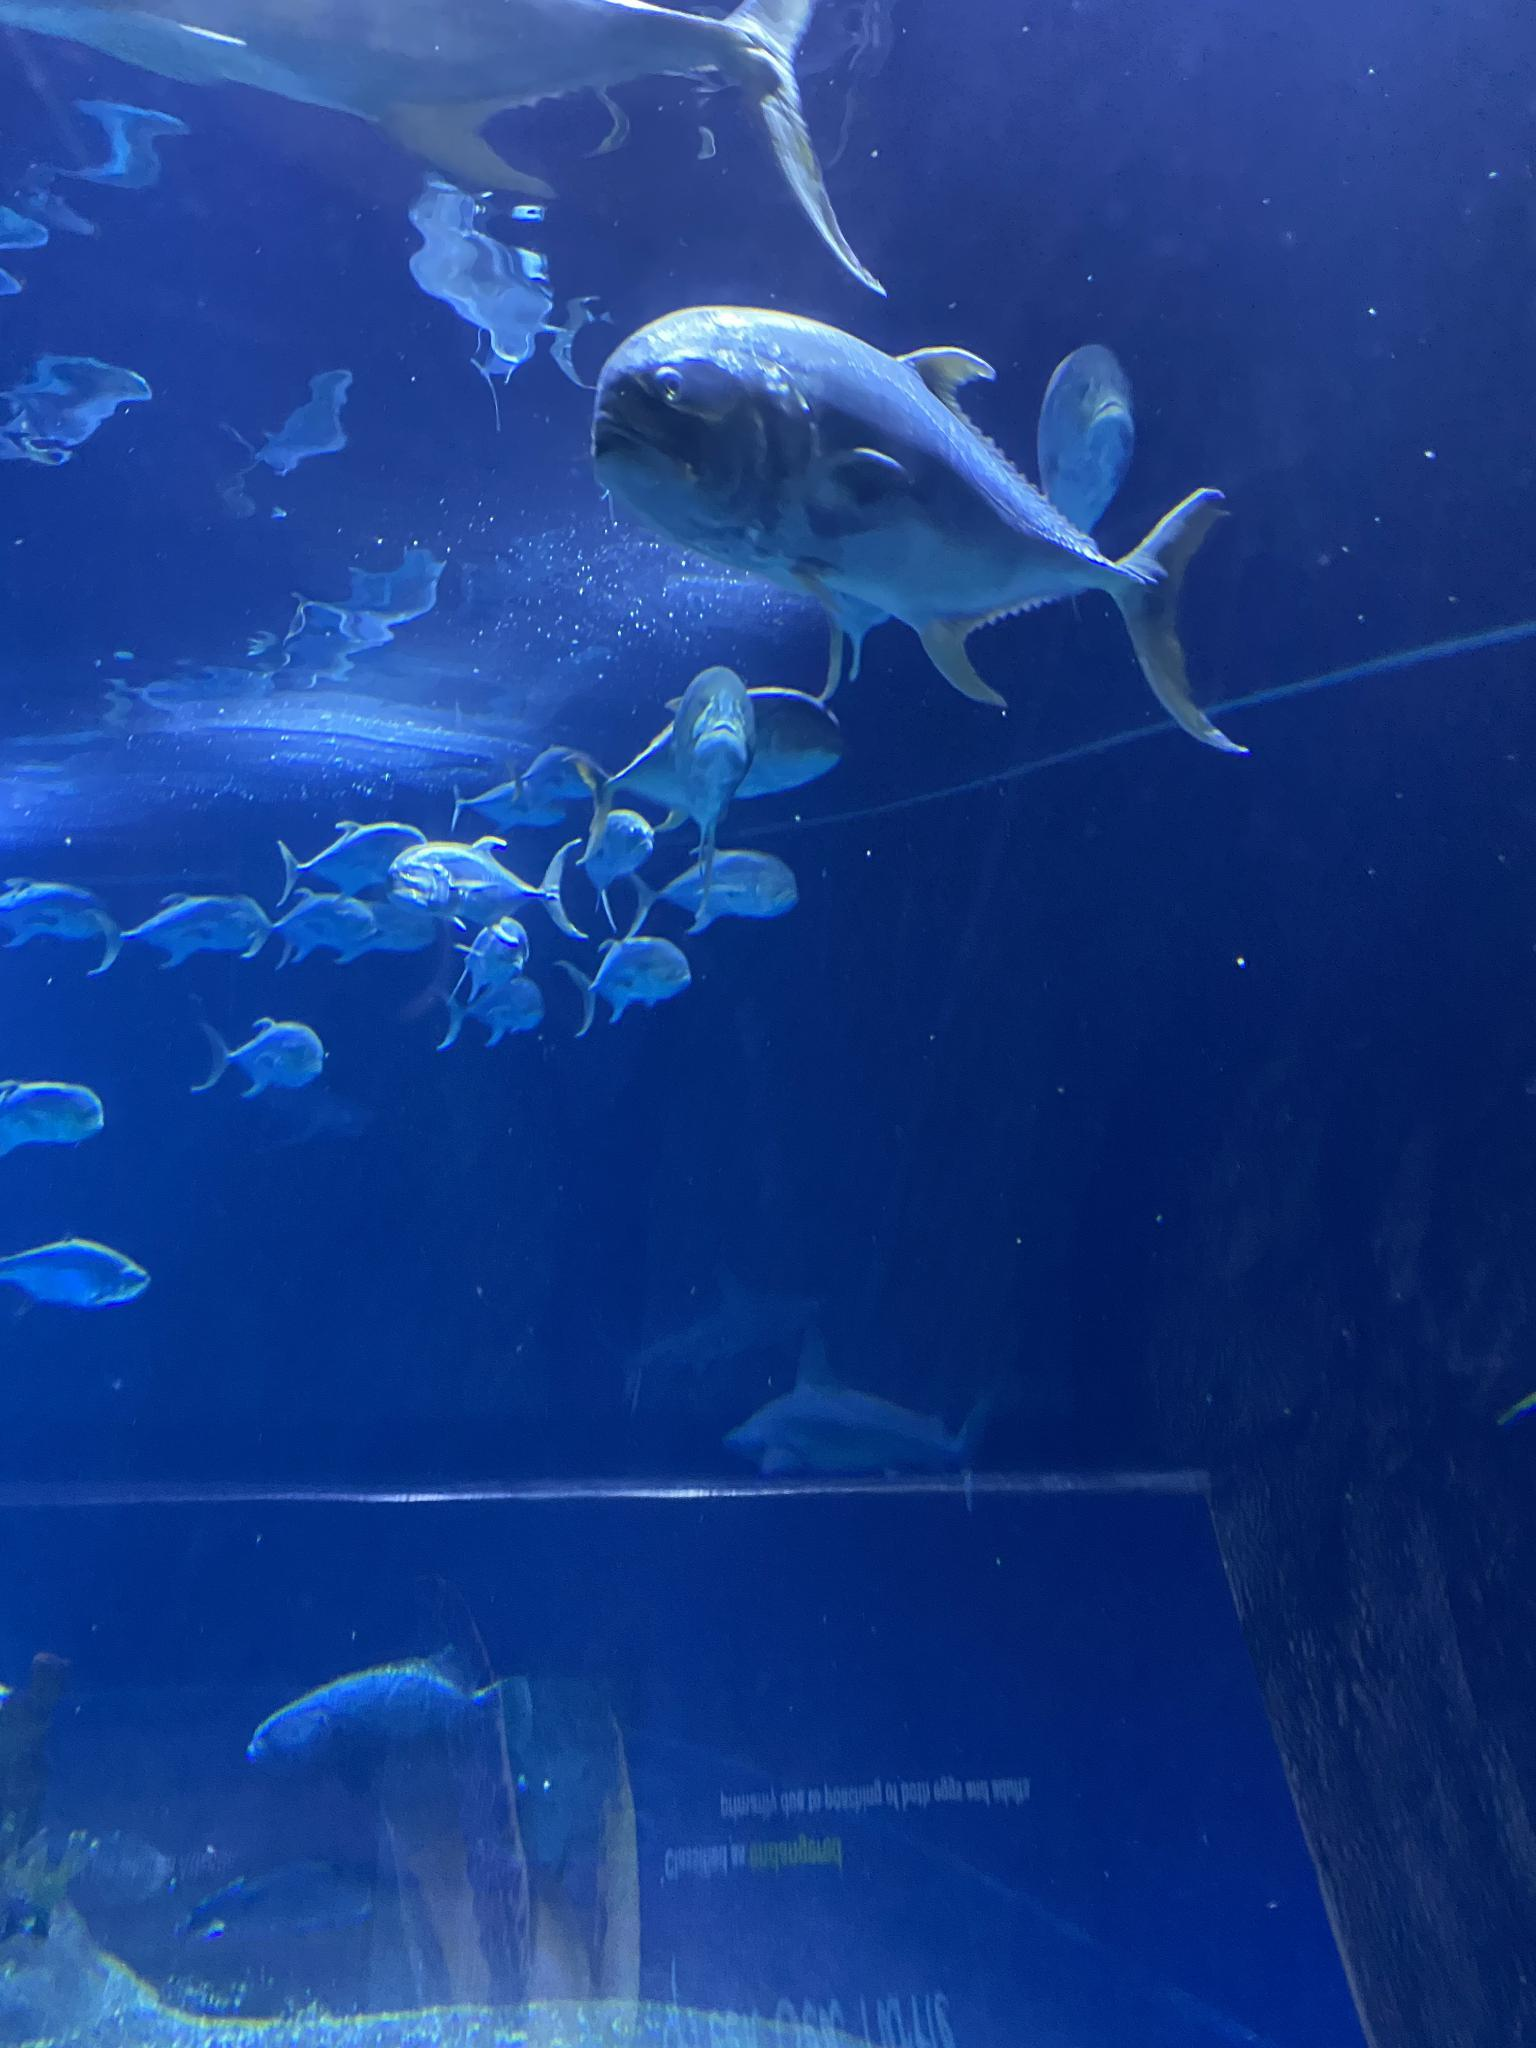fish: (586, 305, 1258, 758), (248, 1646, 524, 1788), (618, 664, 757, 842), (390, 824, 595, 934), (444, 740, 611, 842), (89, 877, 266, 964), (557, 930, 697, 1030), (273, 814, 428, 905), (0, 1227, 153, 1317), (632, 848, 803, 922), (189, 1013, 334, 1100), (255, 892, 394, 972), (0, 868, 119, 959), (440, 906, 536, 1013), (0, 1068, 108, 1158), (436, 982, 550, 1051)
shark: (0, 0, 921, 318), (729, 1369, 992, 1496), (624, 1271, 824, 1397)
